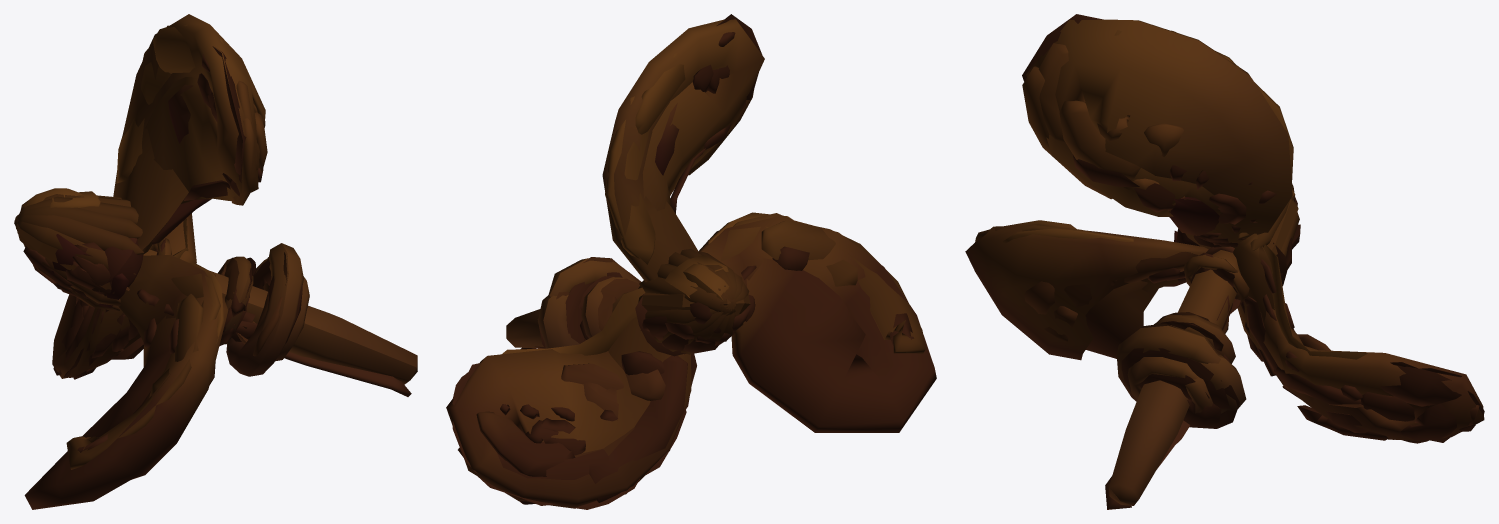
Rendered from propeller_9_17_2022.fbx.
3 views of the same model, side by side, from view 1: azimuth 30°, elevation 25°; view 2: azimuth 150°, elevation 25°; view 3: azimuth 270°, elevation 25° (orthographic). The views are drawn at different scales.
Parts seen in each view (by area): view 1: propeller_LOD0; view 2: propeller_LOD0; view 3: propeller_LOD0.
Part boxes in pixels (bbox=[...]): propeller_LOD0: bbox=[14, 14, 417, 509]; propeller_LOD0: bbox=[446, 14, 936, 509]; propeller_LOD0: bbox=[965, 14, 1484, 509].
Size of what is drawn, in the model's own units: 293 by 291 by 323.
